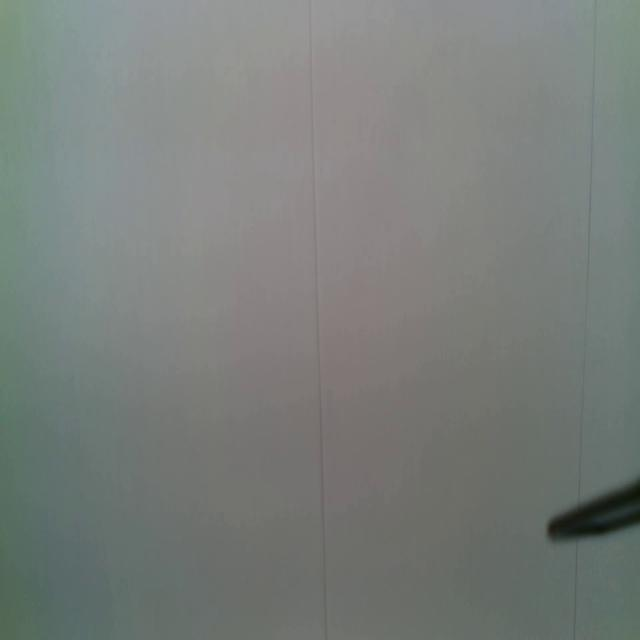crease: (307, 0, 330, 640), (575, 0, 598, 488), (571, 541, 581, 640)
